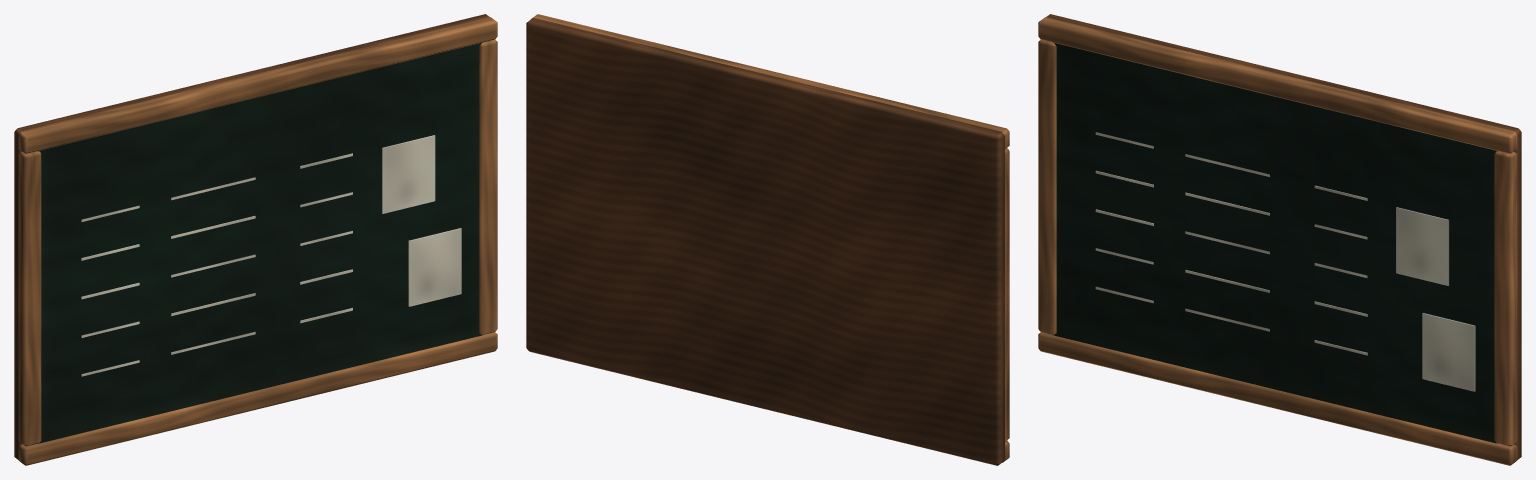
The model's file is Furn_Council_ScheduleBoard.fbx.
3 views of the same model, side by side, from view 1: azimuth 30°, elevation 25°; view 2: azimuth 150°, elevation 25°; view 3: azimuth 330°, elevation 25° (orthographic).
Visible parts, largest first — view 1: Furn_Council_ScheduleBoard; view 2: Furn_Council_ScheduleBoard; view 3: Furn_Council_ScheduleBoard.
Boxes of the visible parts, bbox=[...] form: Furn_Council_ScheduleBoard: bbox=[14, 14, 497, 465]; Furn_Council_ScheduleBoard: bbox=[526, 14, 1009, 465]; Furn_Council_ScheduleBoard: bbox=[1038, 14, 1521, 465].
Bounding box in the file's own units: 1.8 × 1.2 × 0.08.
Materials: 3 (3 with a texture image).
